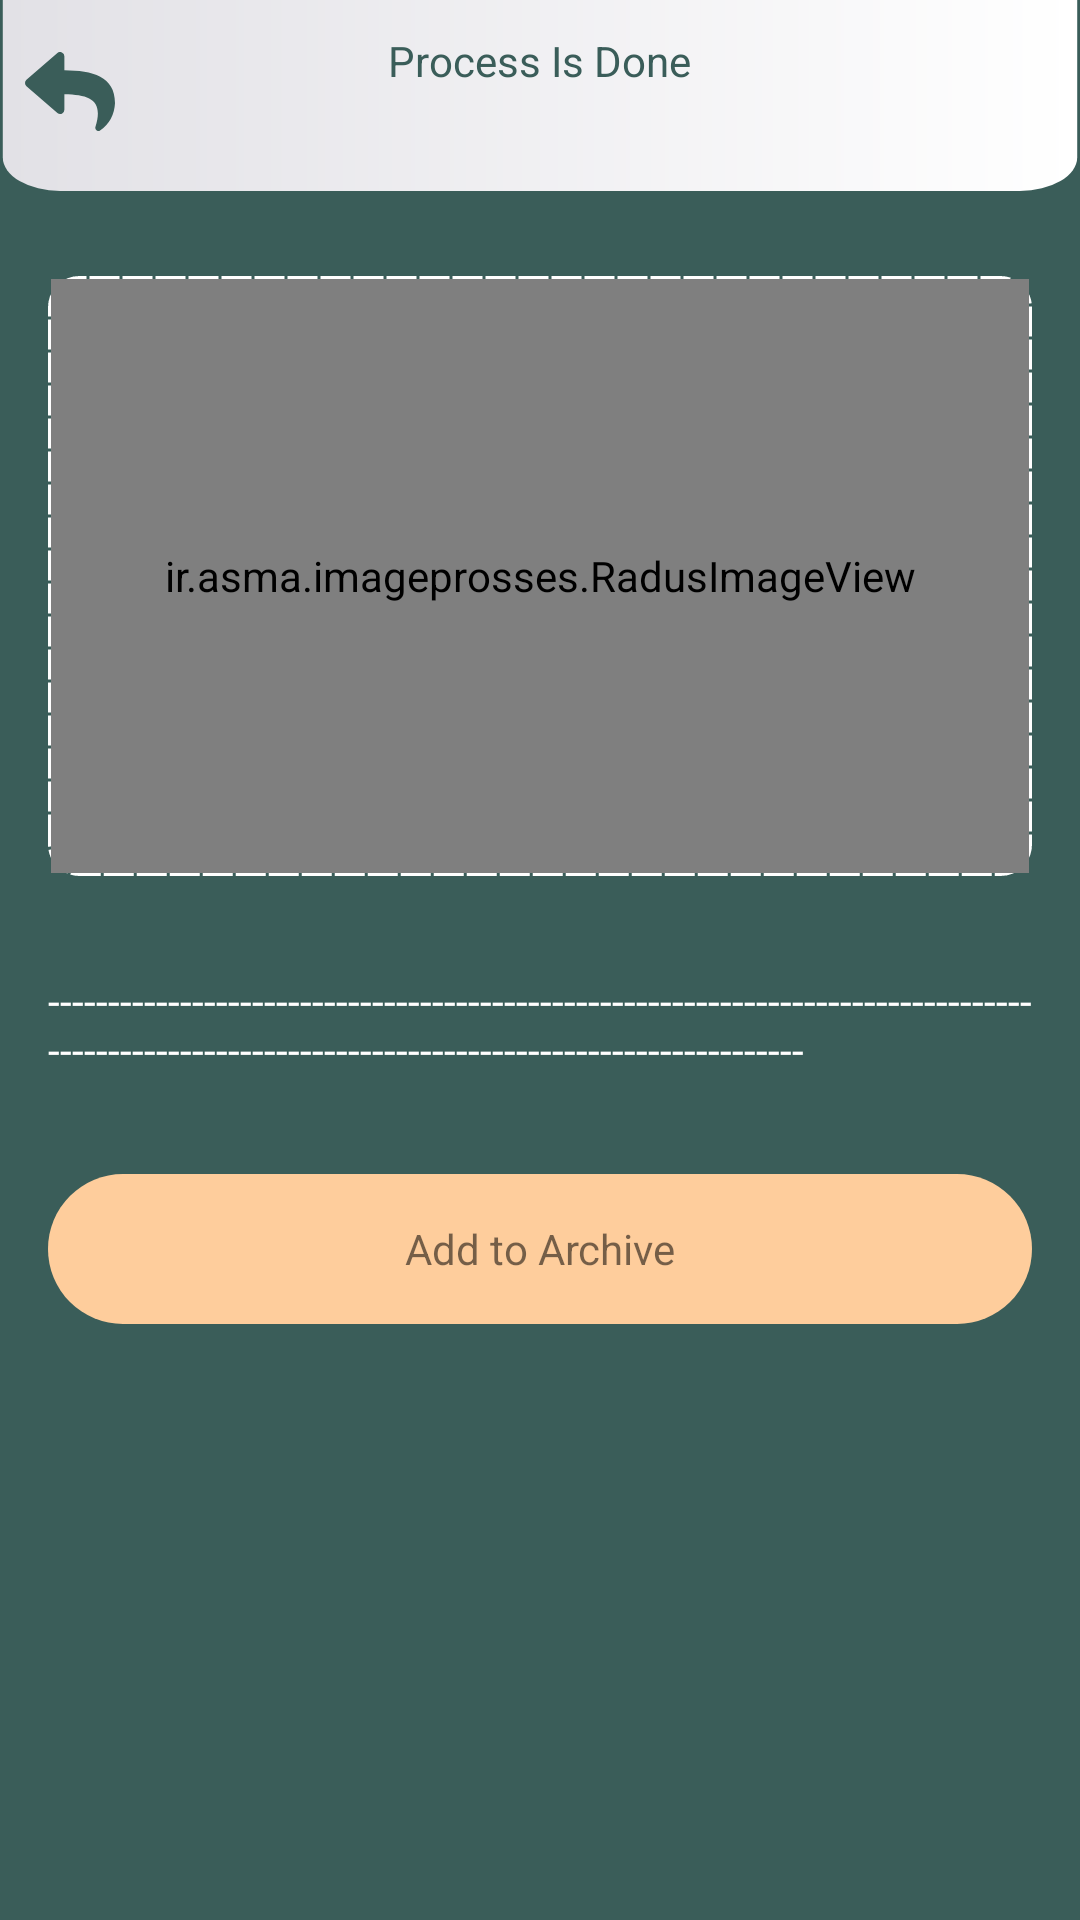

Locate icon controls on the screen. Image size 1080 × 1920, boxes as (x1, y1, x2, y2).
back: (25, 52, 115, 131)
